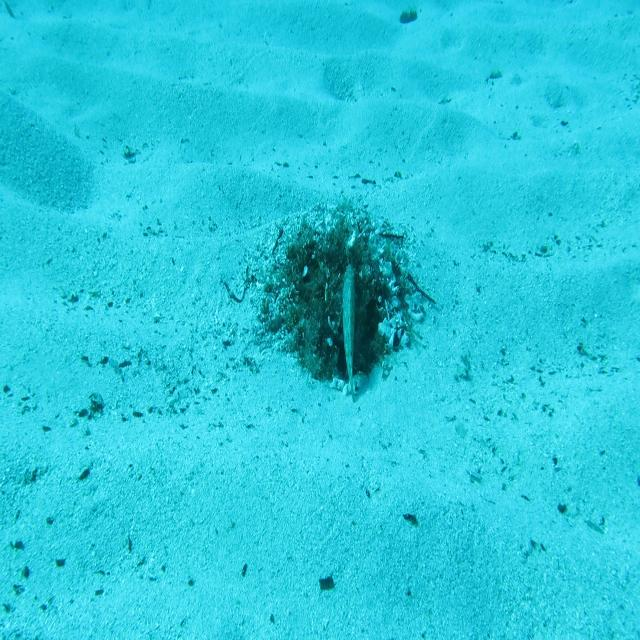FAN: (334, 264, 365, 407)
nest: (253, 200, 428, 394)
